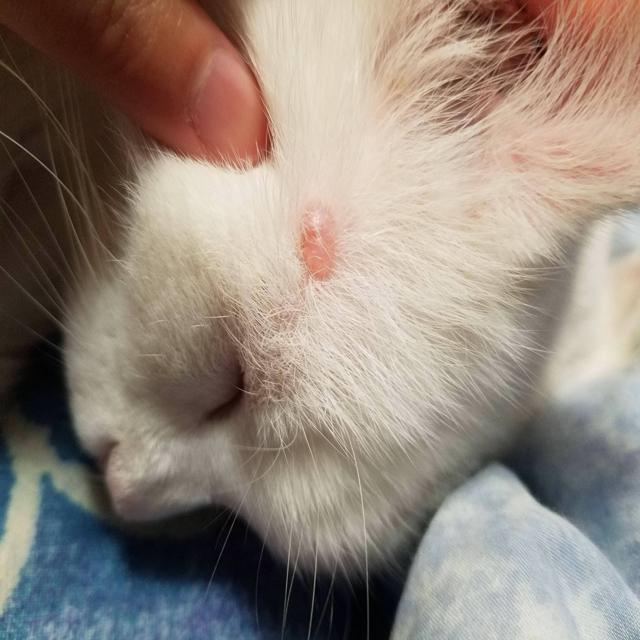lump_and_bump: (299, 208, 336, 280)
